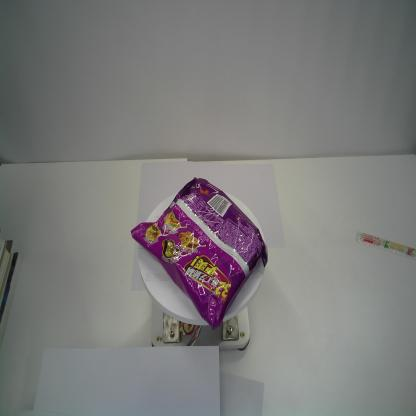Instant Noodles: (131, 174, 268, 329)
